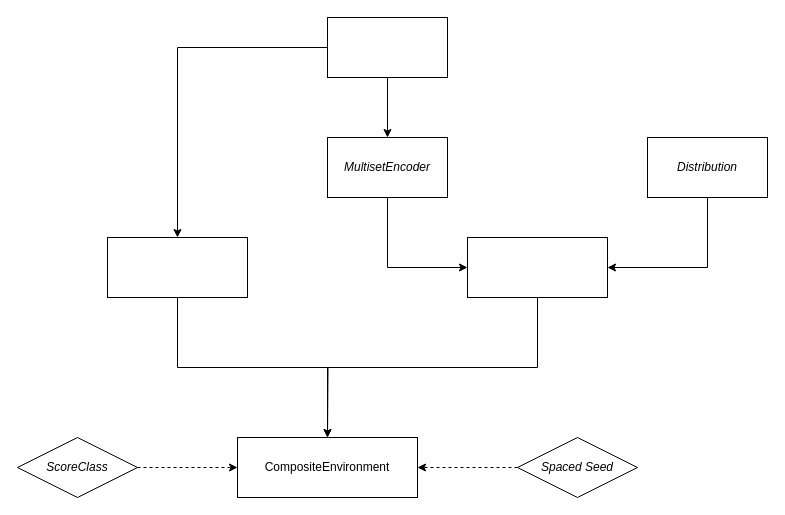
The diagram is 785 pixels wide and 515 high, and some of its shapes have lost their labels. Here are the shapes that lost their labels. From the top down, the centre of each, then its label:
At [387,47]: "SortedQgram".
At [177,267]: "QgramEnvironment".
At [537,267]: "SpacedSeedEncoder".
